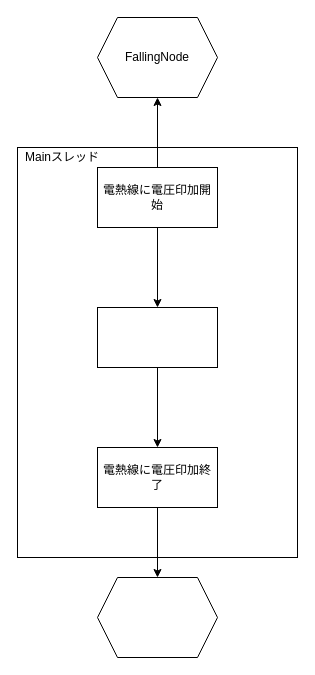
This 315x675 diagram has some shape labels left out. The shapes that lost their labels are listed below. From the top down, each one's box as (x1, y1, x2, y2) in pixels, then its label:
(96, 306, 218, 368): T秒間待機
(96, 576, 218, 658): RunningNode
